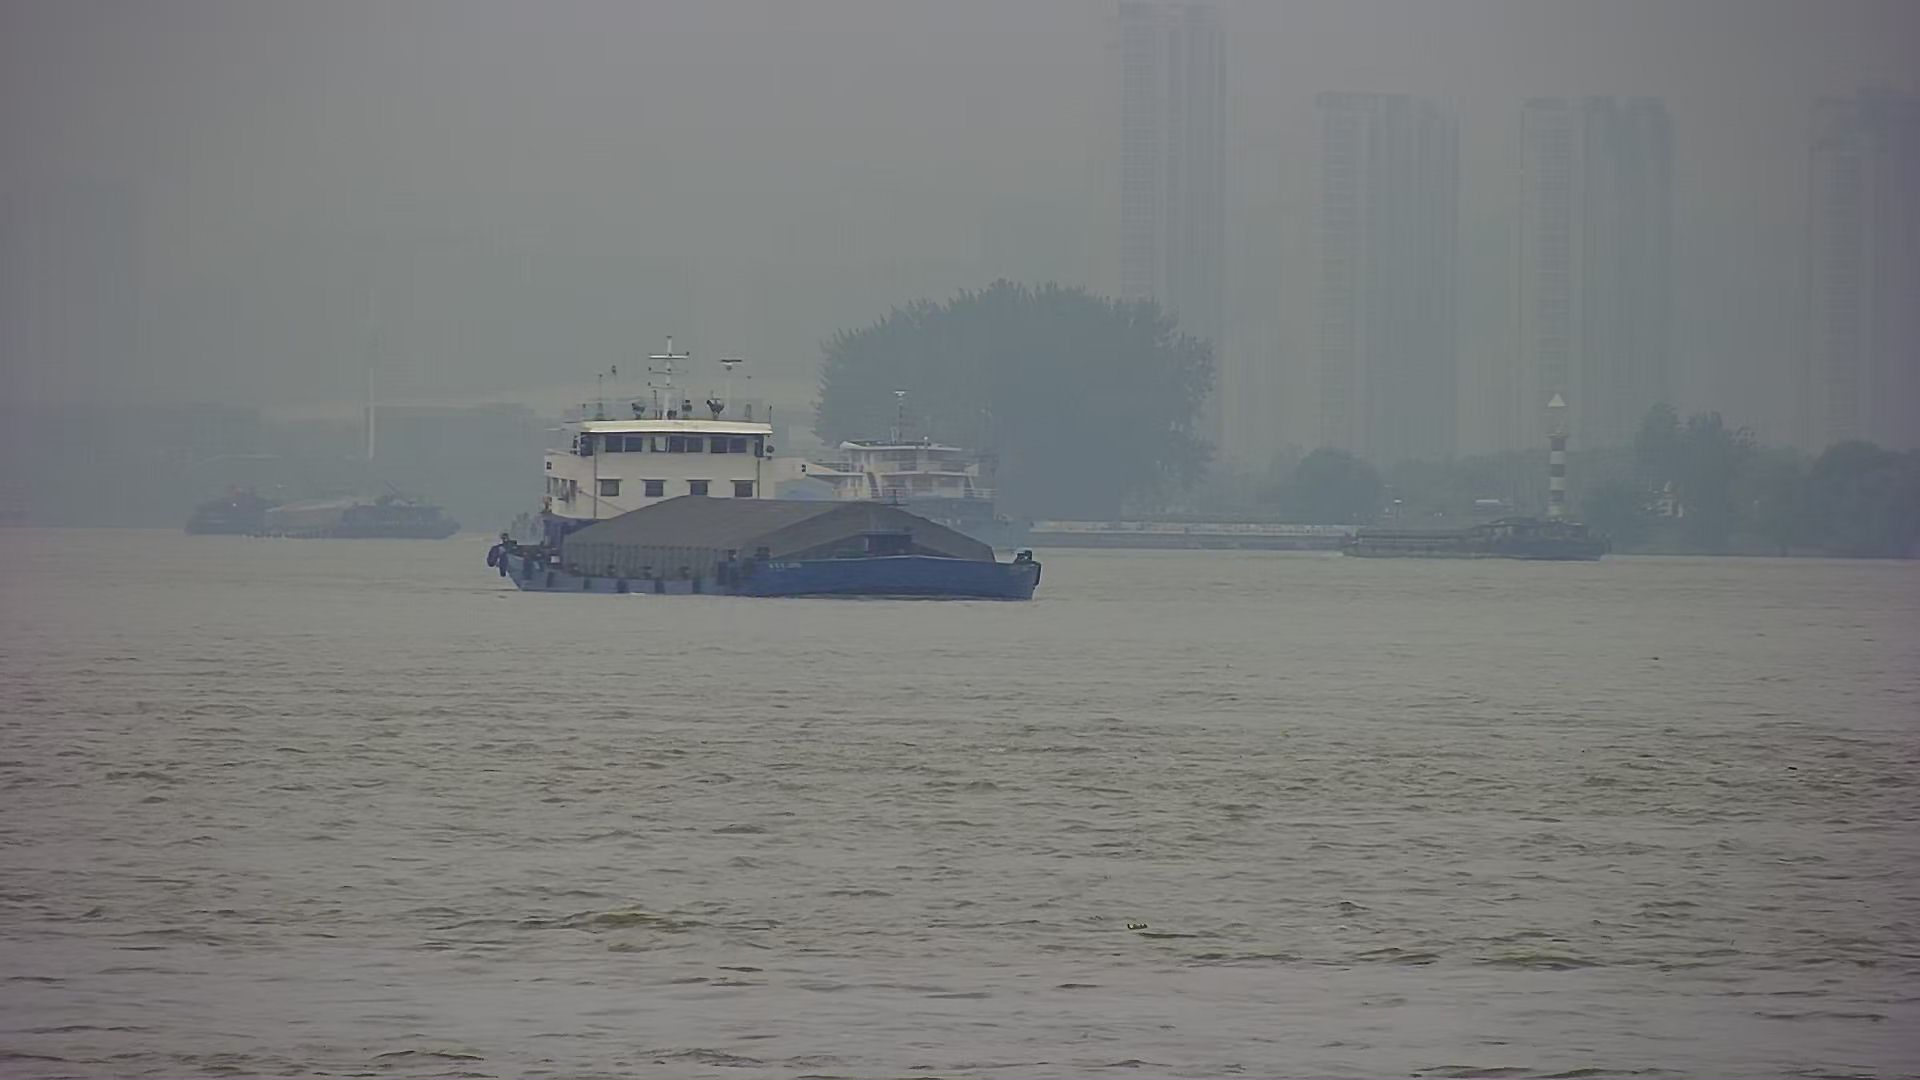ship: (469, 327, 1058, 608), (804, 388, 1046, 550), (183, 472, 477, 543), (1320, 498, 1629, 566)
